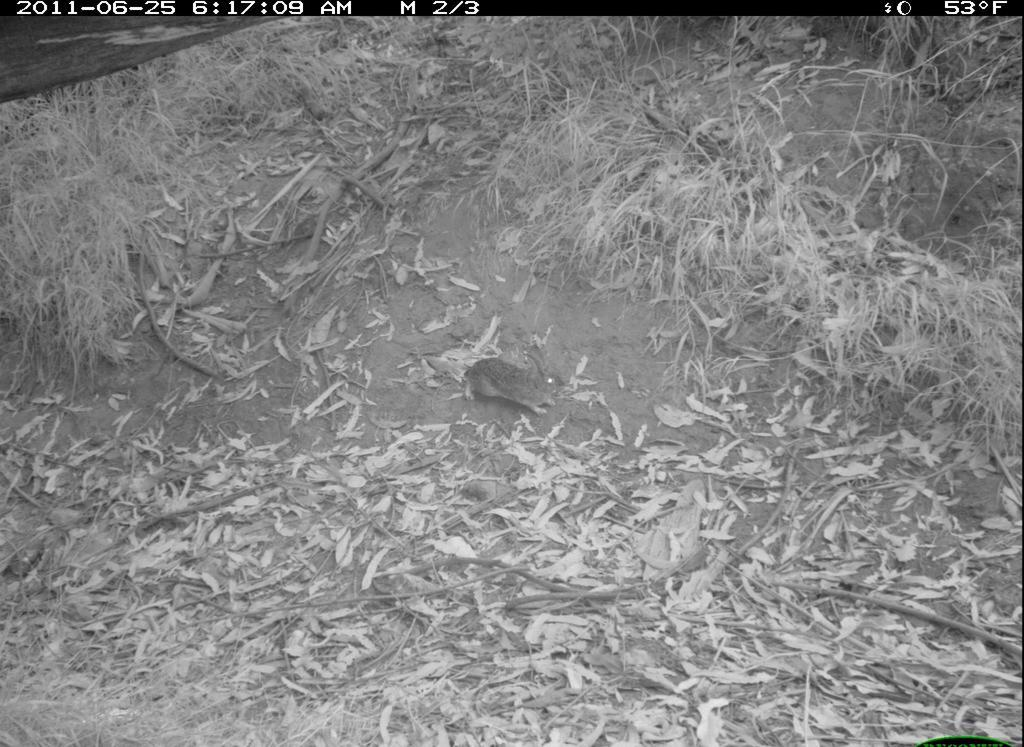rabbit: (460, 335, 583, 424)
